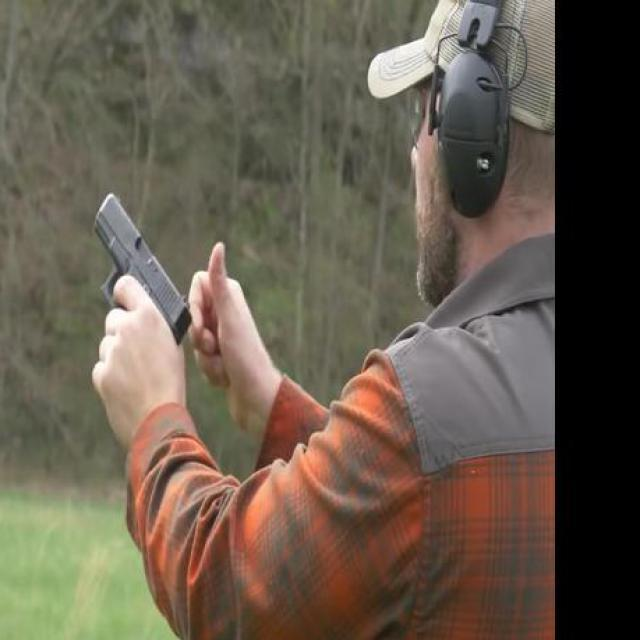Gun: (86, 186, 198, 388)
